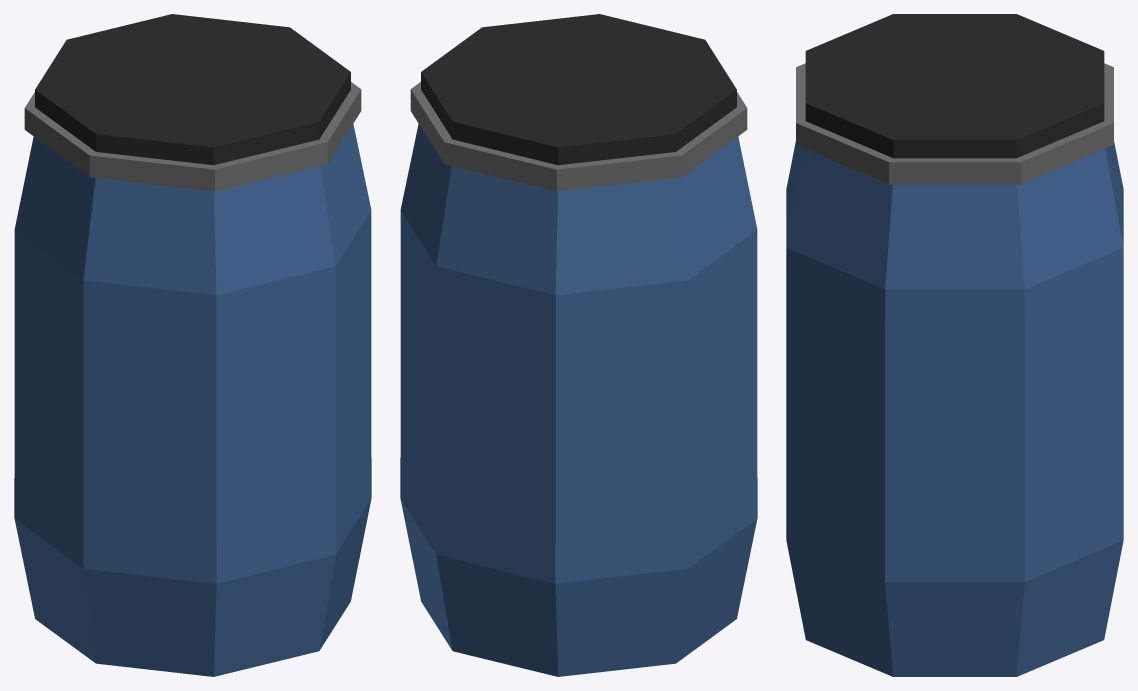
Rendered from SM_Props_Barrel_01.glb.
The picture shows the model from 3 angles, left to right: view 1: azimuth 30°, elevation 25°; view 2: azimuth 150°, elevation 25°; view 3: azimuth 270°, elevation 25°; orthographic projection.
Parts seen in each view (by area): view 1: SM_Props_Barrel_01; view 2: SM_Props_Barrel_01; view 3: SM_Props_Barrel_01.
Part boxes in pixels (box(x1,y1,x2,y2)): SM_Props_Barrel_01: box(14, 14, 371, 676); SM_Props_Barrel_01: box(400, 14, 757, 676); SM_Props_Barrel_01: box(786, 14, 1123, 676).
Size of the model in its own units: 0.4856 by 0.8528 by 0.4856.
Materials: 1 (1 with a texture image).
